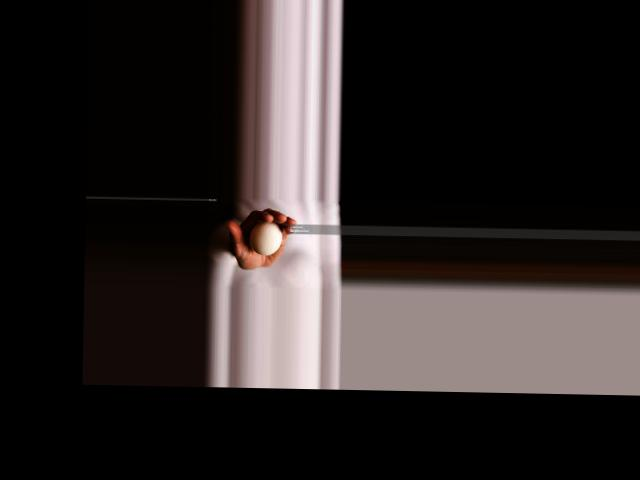egg: (249, 220, 282, 255)
